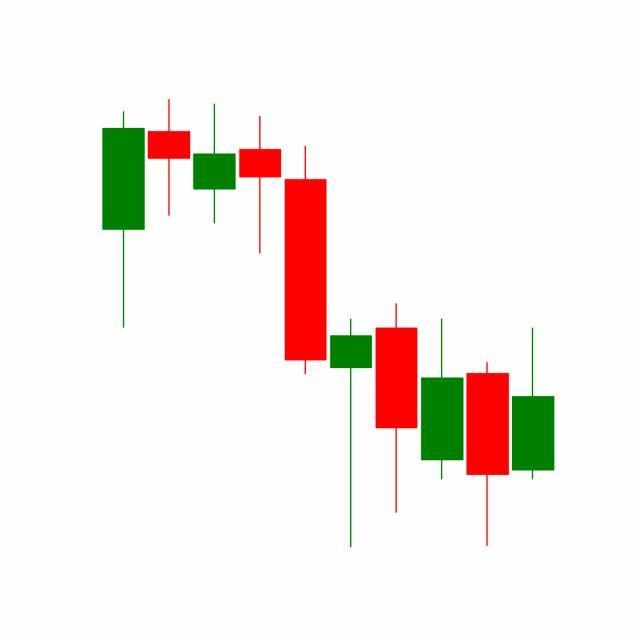Hikkake Pattern: (283, 142, 512, 549)
